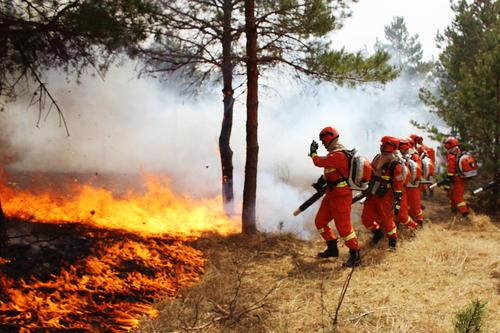fire: (7, 240, 202, 333), (5, 185, 223, 231)
